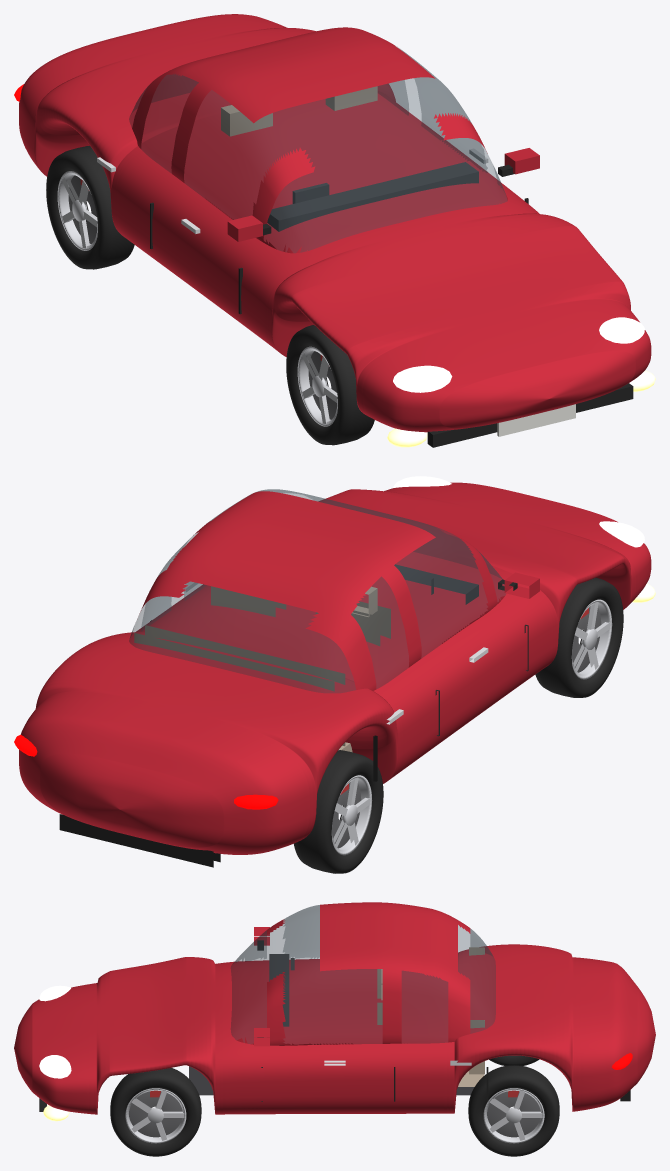
Rendered from car_realistic.glb.
3 renders of one model, top to bottom at view 1: azimuth 30°, elevation 25°; view 2: azimuth 150°, elevation 25°; view 3: azimuth 270°, elevation 25°, orthographic. The views are drawn at different scales.
Parts seen in each view (by area): view 1: Body, Windows, Details, Wheel_RL, Wheel_FL, Interior; view 2: Body, Windows, Interior, Wheel_RL, Wheel_FL, Details; view 3: Body, Windows, Wheel_RR, Wheel_FR, Details, Interior, Wheel_RL.
Part boxes in pixels (x1,y1,x2,y2): Body: [19, 14, 651, 432]; Windows: [129, 46, 507, 252]; Details: [14, 84, 655, 447]; Wheel_RL: [46, 145, 134, 269]; Wheel_FL: [286, 325, 374, 445]; Interior: [221, 86, 478, 231]; Body: [19, 482, 651, 854]; Windows: [129, 489, 505, 692]; Interior: [134, 564, 478, 752]; Wheel_RL: [294, 750, 383, 873]; Wheel_FL: [535, 577, 623, 697]; Details: [14, 476, 655, 867]; Body: [14, 902, 655, 1114]; Windows: [231, 905, 495, 1044]; Wheel_RR: [468, 1065, 559, 1156]; Wheel_FR: [110, 1068, 201, 1156]; Details: [39, 927, 632, 1121]; Interior: [189, 947, 484, 1095]; Wheel_RL: [489, 1055, 539, 1065].
Size of the model in its own units: 1.96 by 1.47 by 4.84.
